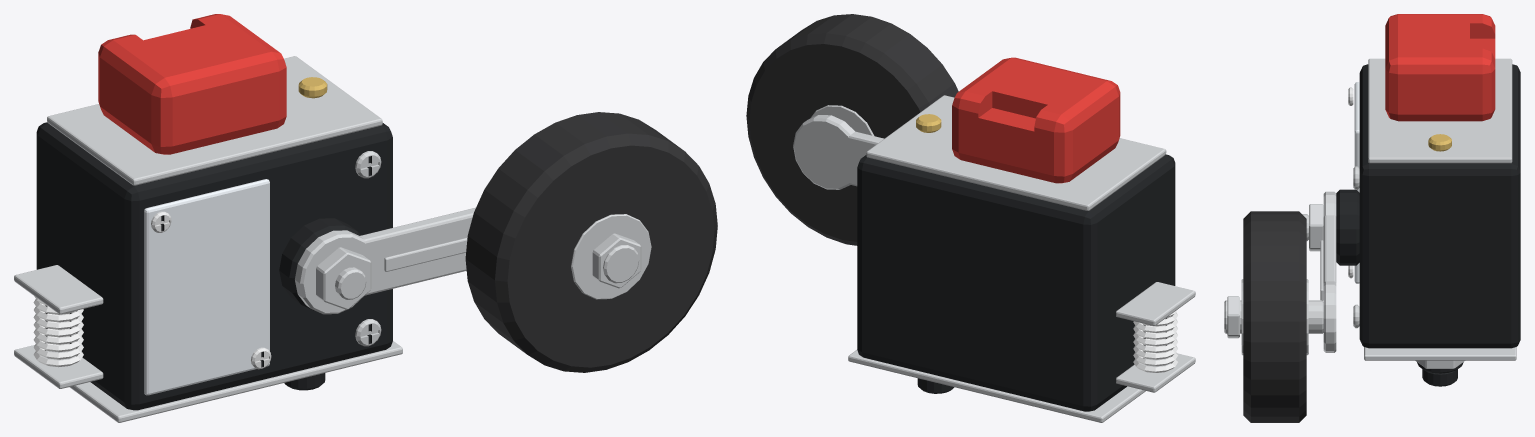
Rendered from limit_switch.glb.
3 views of the same model, side by side, from view 1: azimuth 30°, elevation 25°; view 2: azimuth 150°, elevation 25°; view 3: azimuth 270°, elevation 25° (orthographic). The views are drawn at different scales.
Visible parts, largest first — view 1: SwitchBody, Roller, ContactWindow, Lever; view 2: SwitchBody, Roller, Lever; view 3: SwitchBody, Roller, Lever, ContactWindow.
Part boxes in pixels (x1,y1,x2,y2): SwitchBody: (14, 14, 402, 422); Roller: (465, 112, 717, 372); ContactWindow: (144, 179, 269, 395); Lever: (295, 207, 641, 314); SwitchBody: (848, 57, 1195, 422); Roller: (746, 14, 958, 245); Lever: (793, 115, 883, 189); SwitchBody: (1336, 14, 1520, 386); Roller: (1241, 211, 1308, 422); Lever: (1224, 191, 1336, 352); ContactWindow: (1354, 82, 1359, 283).
Bounding box in the file's own units: 0.127 × 0.078 × 0.07.
